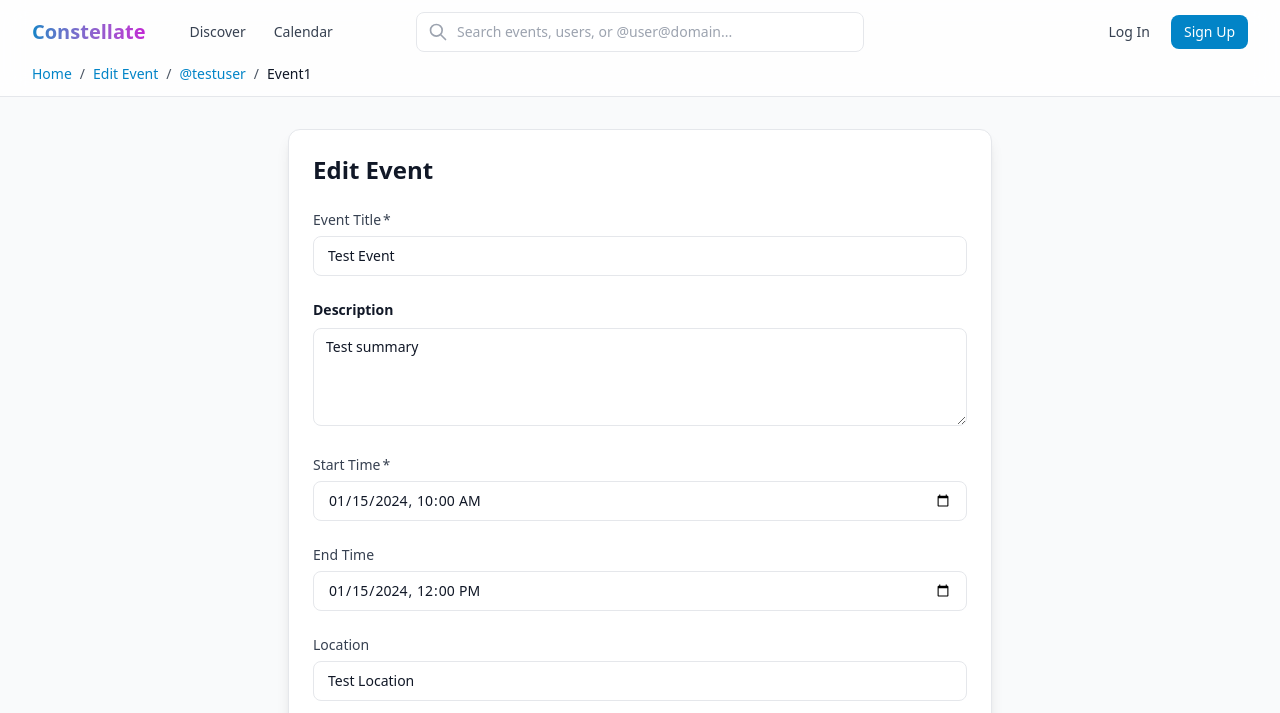
Test: EditEventPage › should handle location suggestions
expect the link "Edit Event" is shown: met, box [93,64,158,84]
Type "New York" into the field with placeholder "Enter location".
click(640, 681); type("New York")  # box [313,661,967,701]
(page scrolled)
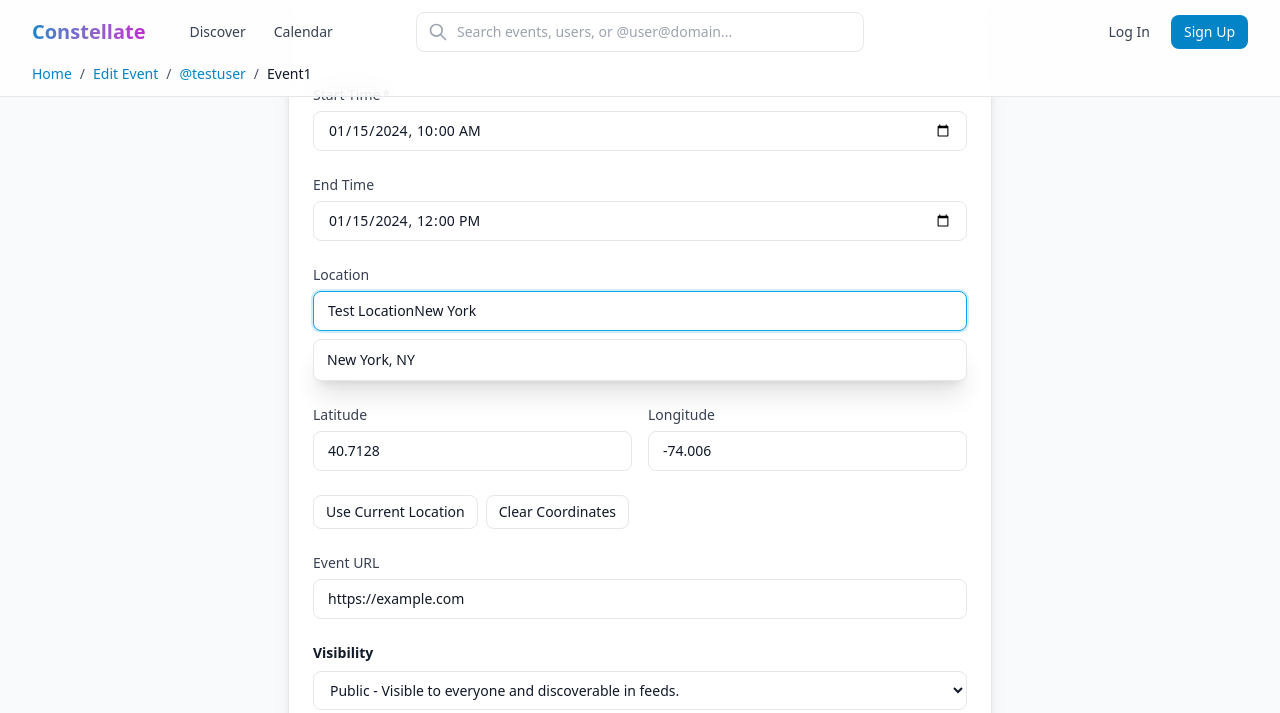
expect the text "New York, NY" is shown: met, box [327,350,415,370]
Click the button "New York, NY".
click(371, 360)  # box [314,340,966,380]
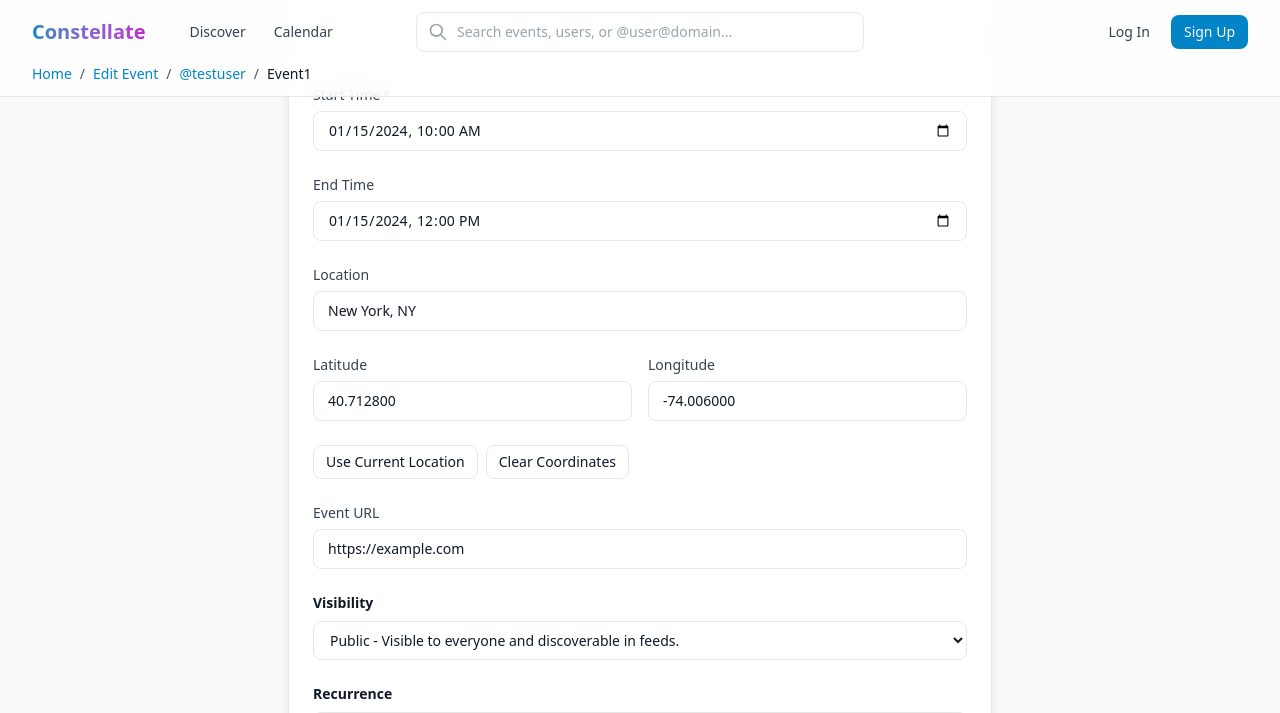
expect the field with placeholder "Enter location" holds "New York, NY": met, box [313,291,967,331]
